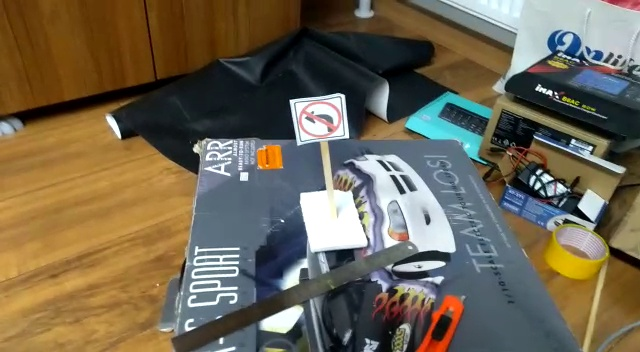sola_donulmez: (296, 94, 346, 142)
